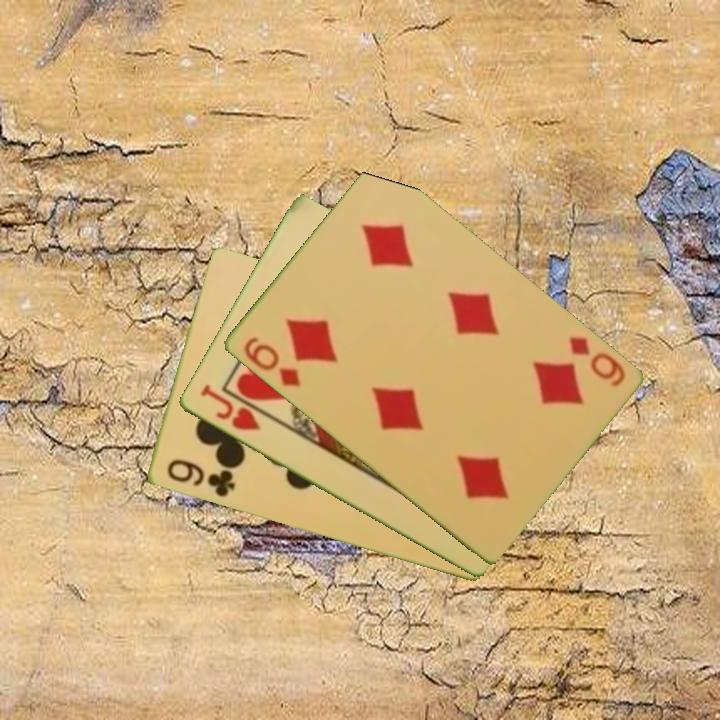6d: (239, 333, 303, 390), (564, 333, 628, 390)
9c: (163, 456, 238, 500)
Jh: (196, 381, 264, 434)
